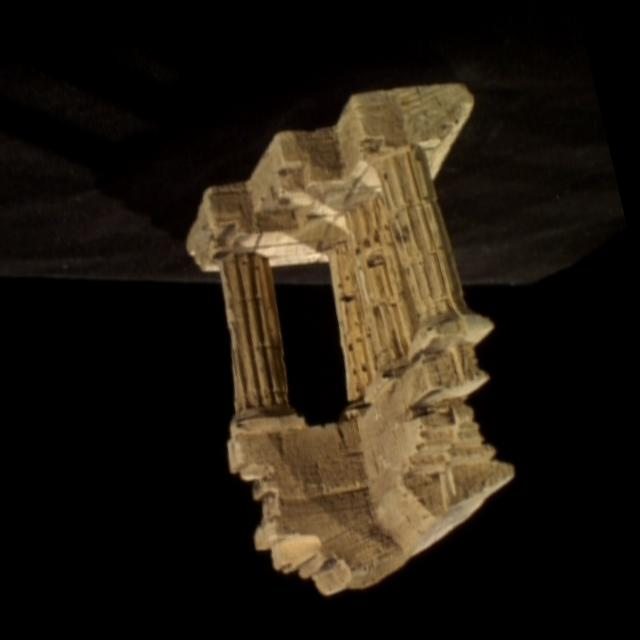Instance-Segmentation: (187, 84, 513, 594)
